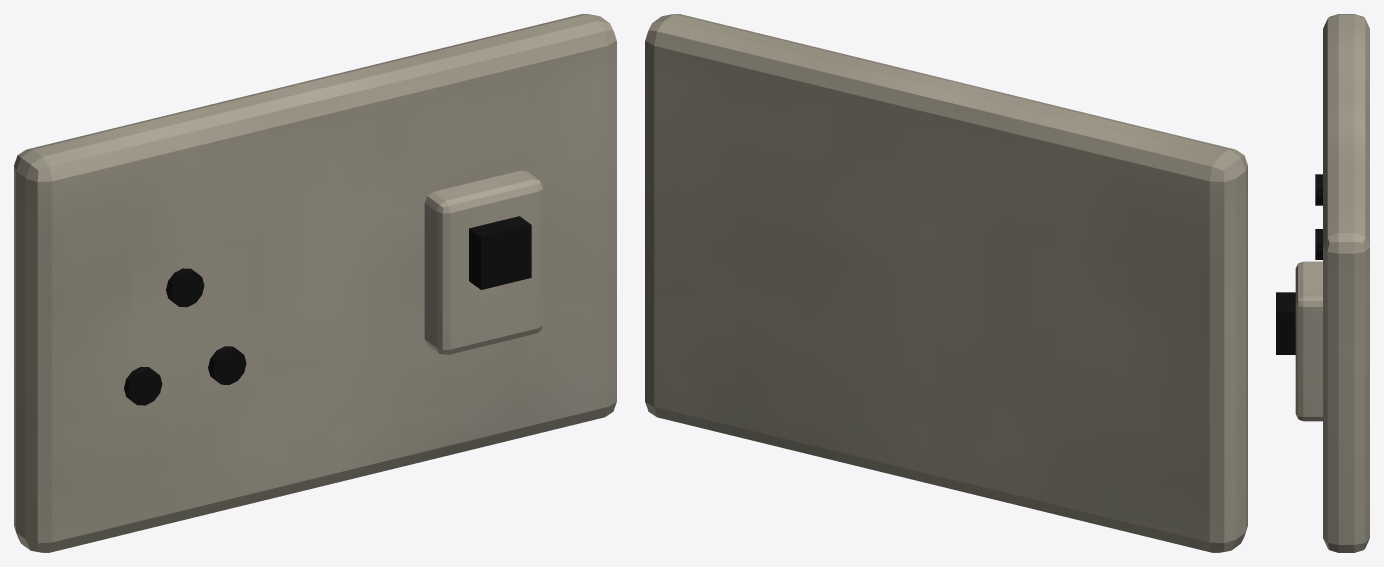
Rendered from U10_WallSocket.glb.
The picture shows the model from 3 angles, left to right: view 1: azimuth 30°, elevation 25°; view 2: azimuth 150°, elevation 25°; view 3: azimuth 270°, elevation 25°; orthographic projection. The views are drawn at different scales.
Parts seen in each view (by area): view 1: U10_WallSocket; view 2: U10_WallSocket; view 3: U10_WallSocket.
Boxes of the visible parts, box(x1,y1,x2,y2) form: U10_WallSocket: box(14, 14, 616, 552); U10_WallSocket: box(645, 14, 1247, 552); U10_WallSocket: box(1276, 14, 1369, 552).
Size of the model in its own units: 0.1 by 0.0643 by 0.0171.
Materials: 2 (2 with a texture image).
